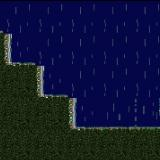Interaction: (88, 110, 160, 142), (49, 88, 88, 110), (60, 111, 88, 141), (14, 54, 50, 74), (30, 75, 50, 111), (0, 27, 14, 76)
Slow: (0, 0, 160, 32), (12, 32, 160, 62), (44, 62, 160, 94), (76, 94, 160, 124)
